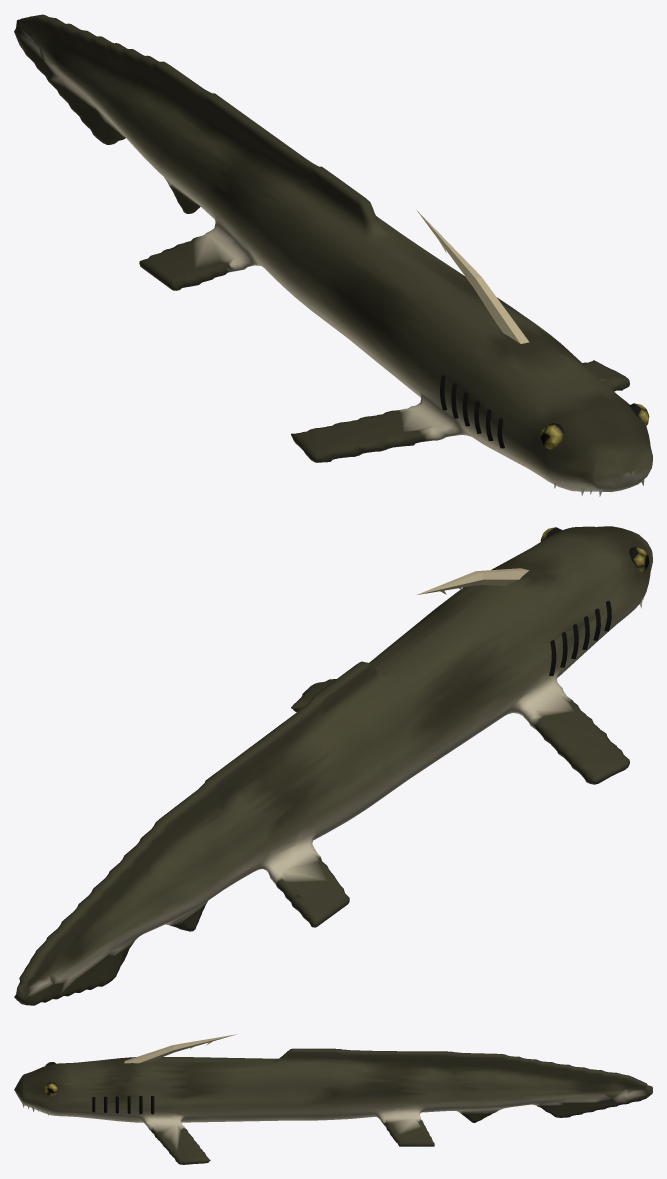
Rendered from Orthacanthus.fbx.
3 views of the same model, one above another, from view 1: azimuth 30°, elevation 25°; view 2: azimuth 150°, elevation 25°; view 3: azimuth 270°, elevation 25° (orthographic). The views are drawn at different scales.
Visible parts, largest first — view 1: Orthacanthus; view 2: Orthacanthus; view 3: Orthacanthus.
Boxes of the visible parts, bbox=[...] form: Orthacanthus: bbox=[14, 14, 652, 496]; Orthacanthus: bbox=[14, 526, 652, 1005]; Orthacanthus: bbox=[14, 1034, 652, 1164].
Size of the model in its own units: 0.3564 by 0.1891 by 1.19.
